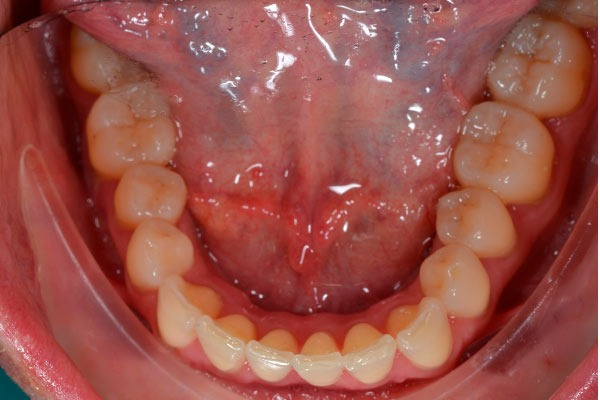LL1BC_healthy: (420, 247, 490, 313)
LL1M_healthy: (455, 102, 552, 195)
LL2BC_healthy: (437, 188, 516, 255)
LL2M_decay: (491, 19, 589, 111)
LLCI_healthy: (294, 333, 341, 385)
LLC_healthy: (393, 298, 451, 368)
LLLI_healthy: (344, 324, 395, 381)
LR1BC_healthy: (127, 222, 192, 286)
LR1M_healthy: (87, 86, 174, 169)
LR2BC_healthy: (117, 167, 184, 221)
LR2M_decay: (69, 21, 163, 85)
LRCI_healthy: (248, 331, 293, 380)
LRC_healthy: (157, 278, 217, 345)
LRLI_healthy: (200, 313, 250, 369)
